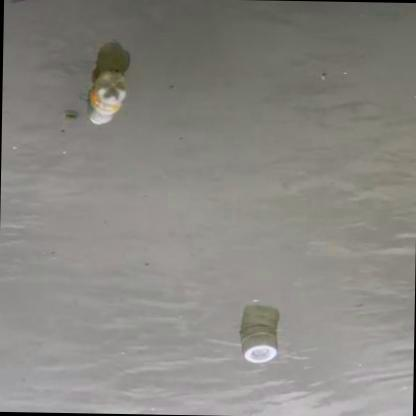Plastic: (86, 66, 130, 128), (241, 327, 280, 363)
